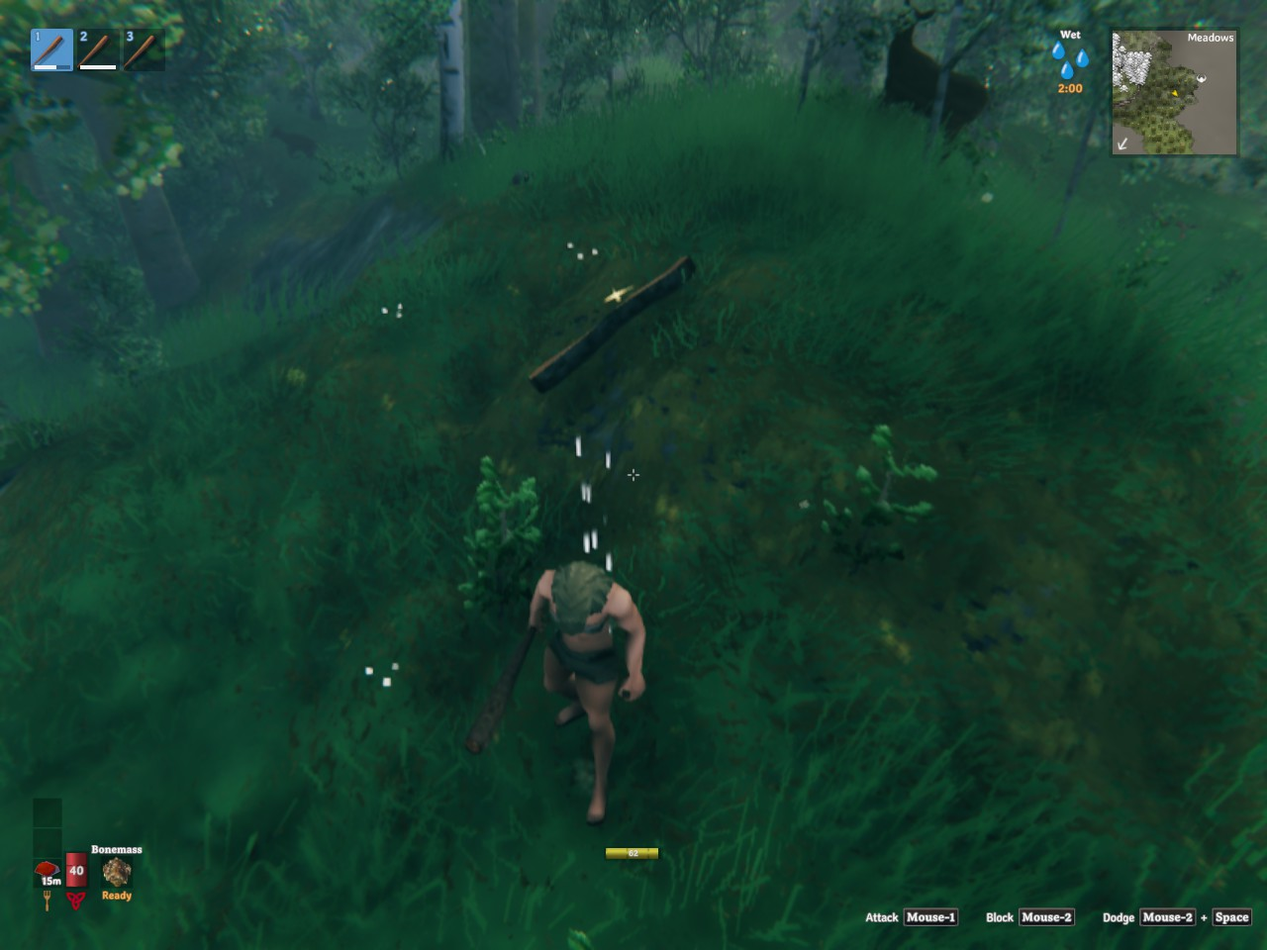Deer: (883, 25, 939, 117), (942, 73, 988, 138)
Food Indicator: (36, 797, 63, 891)
Health Bar: (63, 820, 90, 891)
Hotbar: (24, 21, 195, 80)
Stamina Bar: (600, 840, 668, 866)
Status Indicator: (1024, 22, 1111, 100)
Wood: (530, 256, 695, 392)
